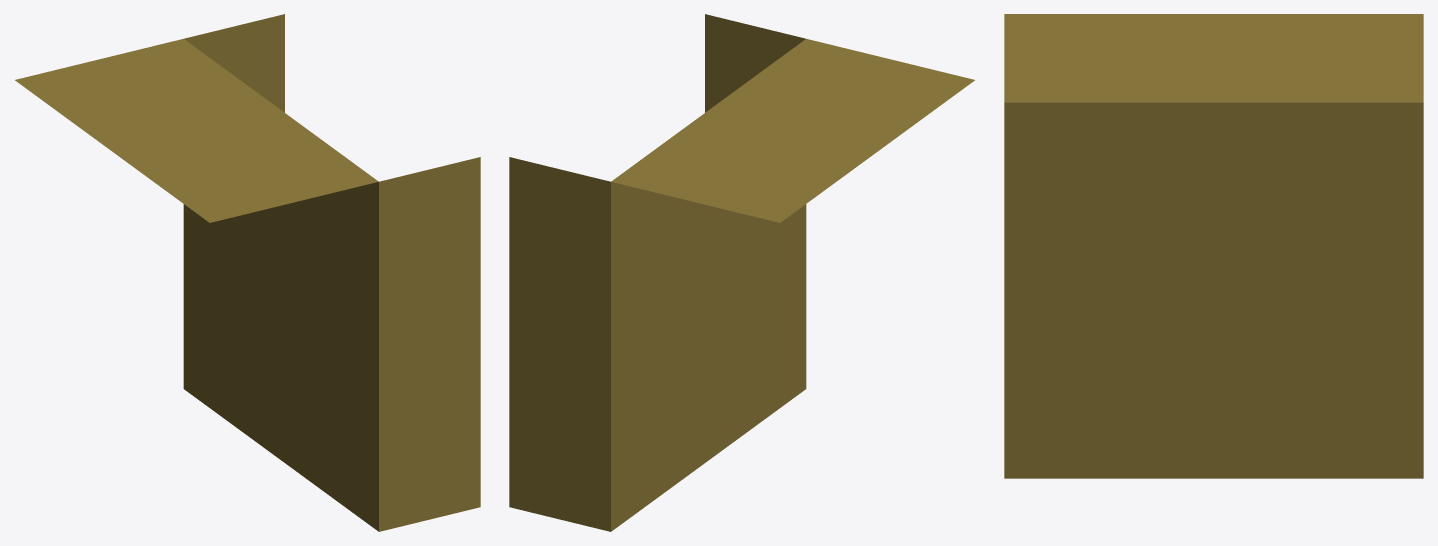
File: Pitfall.fbx
3 renders of one model, left to right at view 1: azimuth 30°, elevation 25°; view 2: azimuth 150°, elevation 25°; view 3: azimuth 270°, elevation 25°, orthographic. The views are drawn at different scales.
Visible parts, largest first — view 1: pPlane5; view 2: pPlane5; view 3: pPlane5.
Part boxes in pixels (bbox=[...]): pPlane5: bbox=[15, 14, 480, 531]; pPlane5: bbox=[509, 14, 974, 531]; pPlane5: bbox=[1004, 14, 1423, 478].
Size of the model in its own units: 8 by 9.89 by 10.
